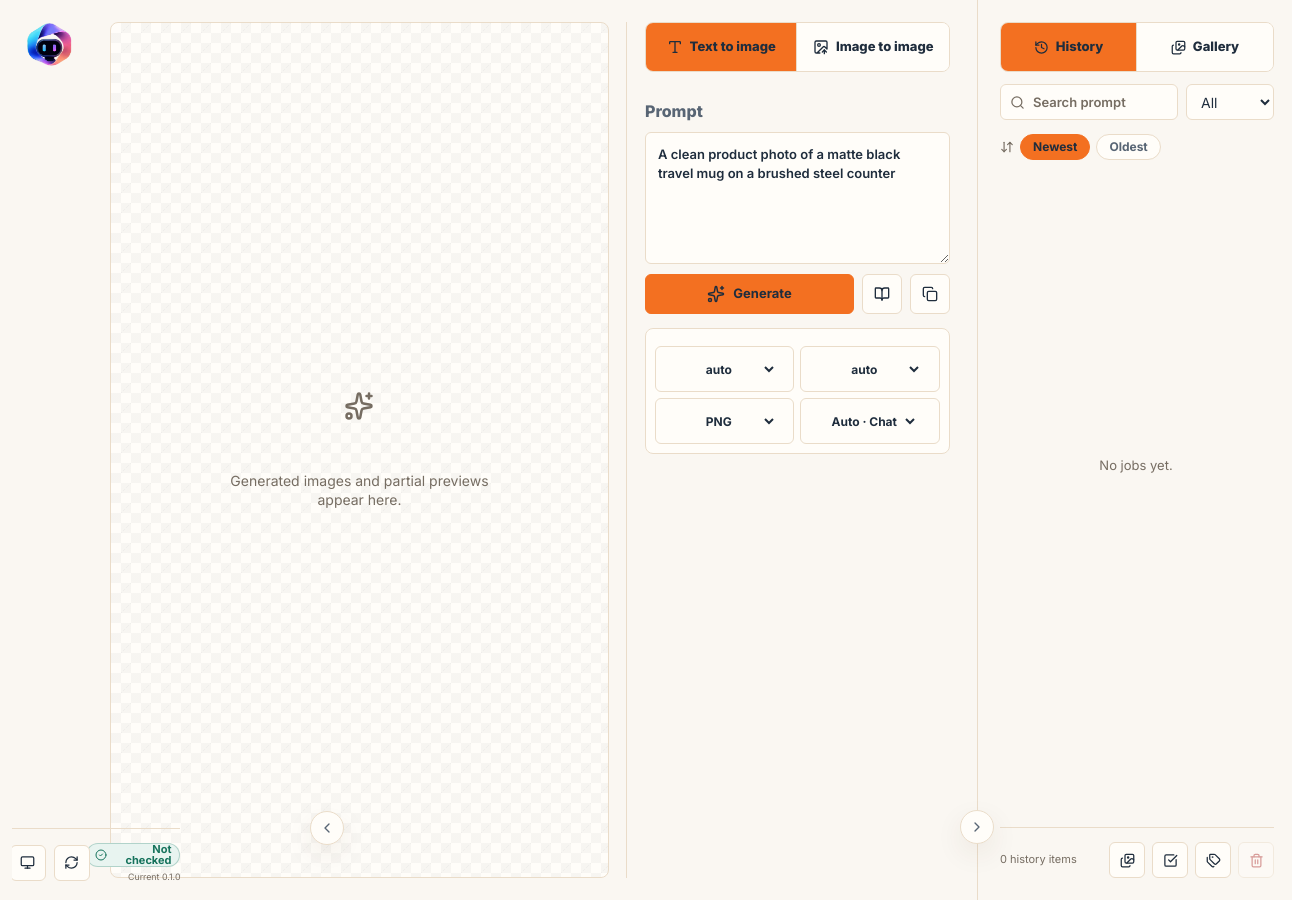
Test case: renderer multi-model smoke › cross-fades mode-specific controls when switching between text and image modes
This screenshot has width=1292, height=900.
Expected: the element named "Parameters" is shown, x1=645 y1=328 x2=950 y2=454
Click the button with class "mode-tab" showing "Image to image": (873, 47) x1=798 y1=23 x2=949 y2=71
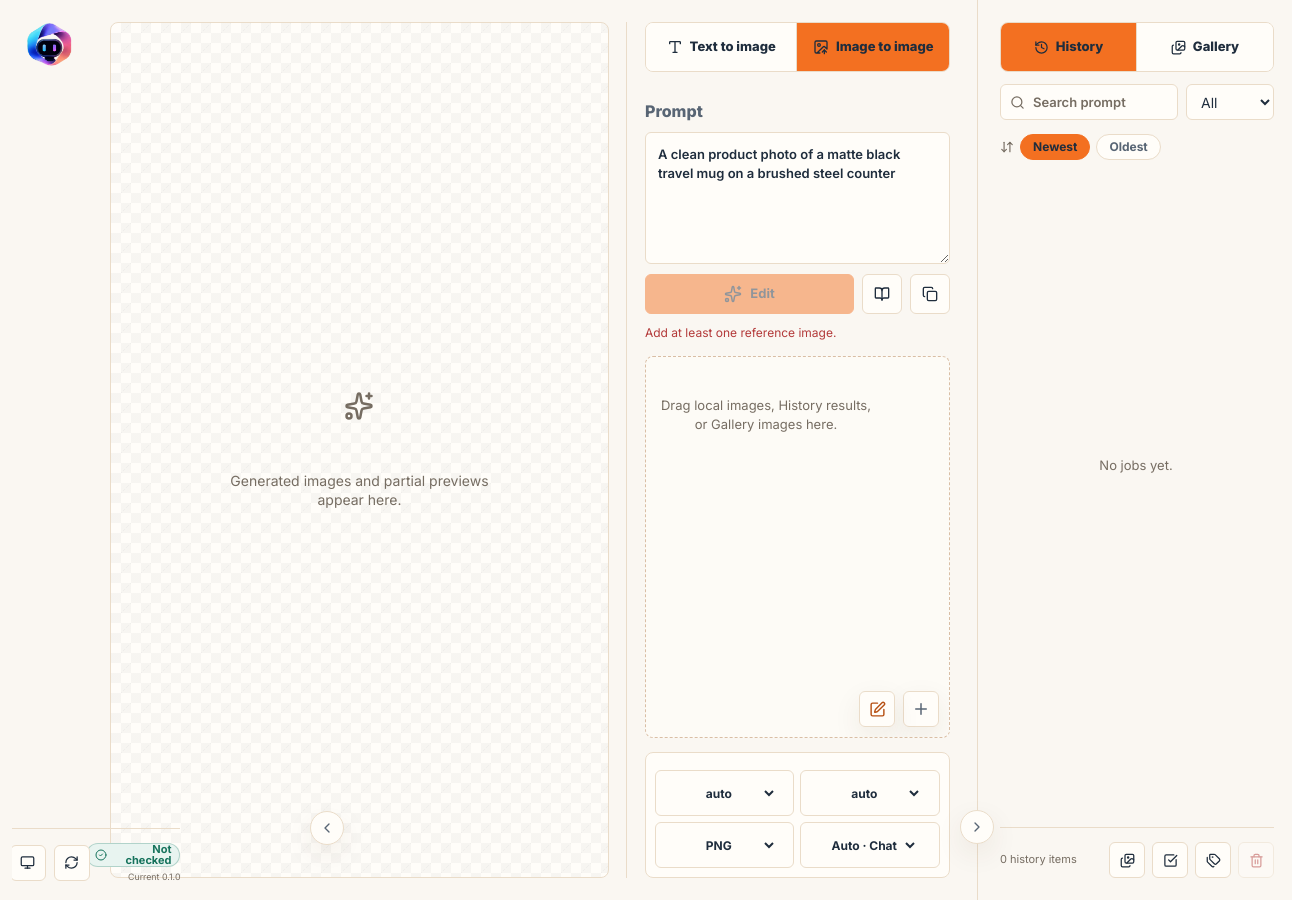
Now the element with class "reference-grid" is shown, box x1=645 y1=356 x2=950 y2=738
